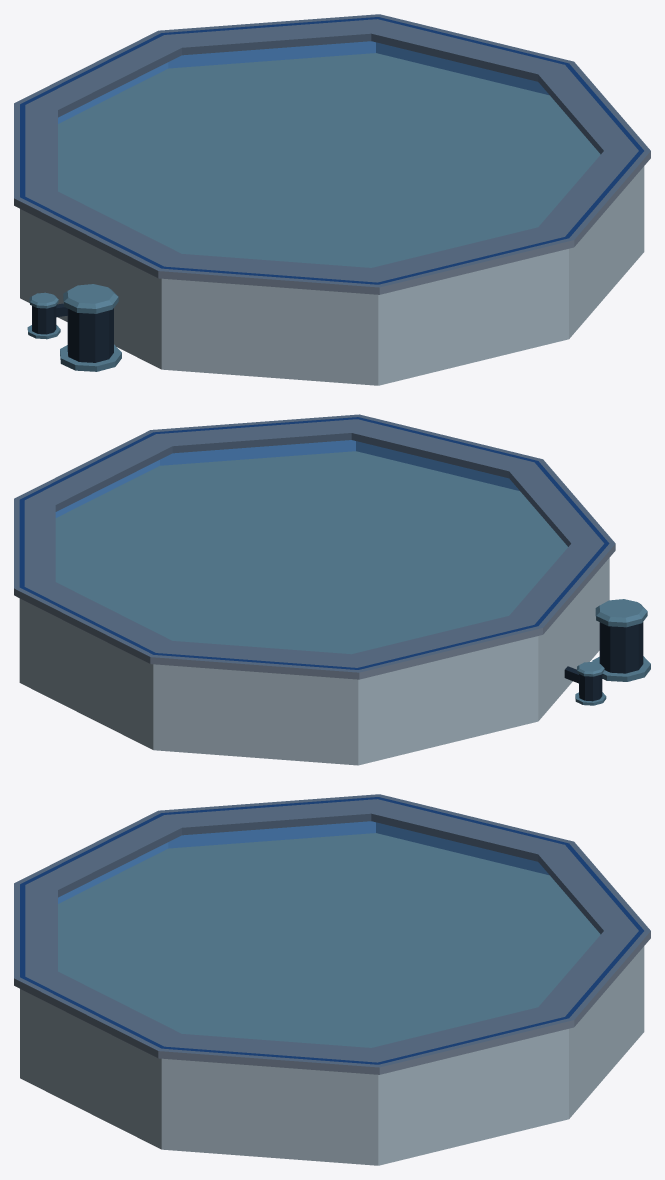
The model's file is Town_Fountain.fbx.
The picture shows the model from 3 angles, top to bottom: view 1: azimuth 30°, elevation 25°; view 2: azimuth 150°, elevation 25°; view 3: azimuth 270°, elevation 25°; orthographic projection. The views are drawn at different scales.
Visible parts, largest first — view 1: Cylinder.253; view 2: Cylinder.253; view 3: Cylinder.253.
Part boxes in pixels (left/top/right/bottom): Cylinder.253: left=14, top=14, right=650, bottom=385; Cylinder.253: left=14, top=414, right=650, bottom=765; Cylinder.253: left=14, top=794, right=650, bottom=1165.
Size of the model in its own units: 630 by 104 by 589.
